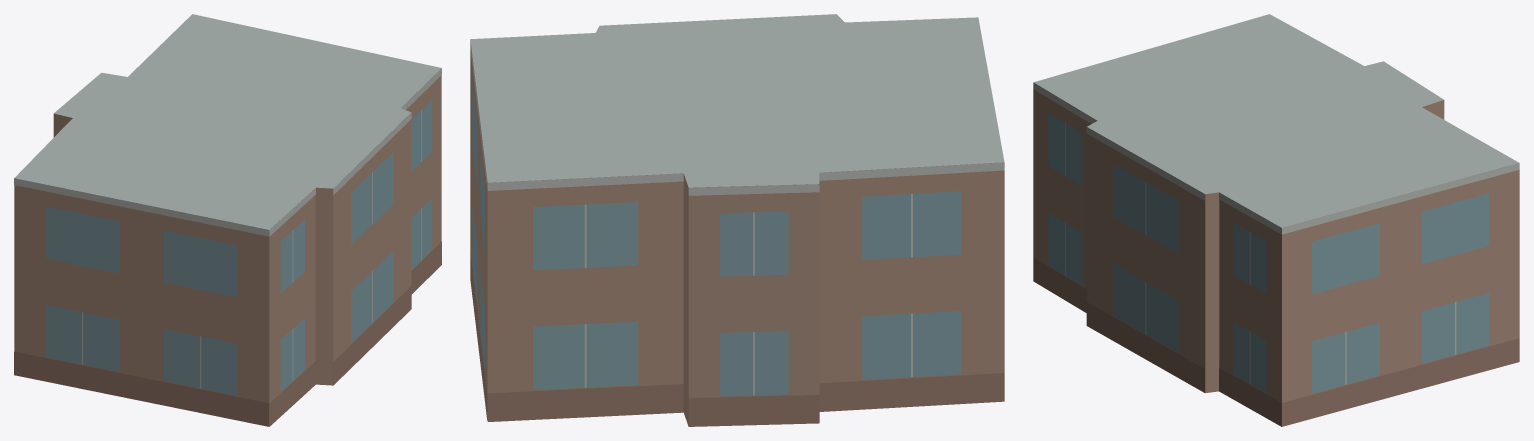
The model's file is survey-upis-32922652.glb.
3 views of the same model, side by side, from view 1: azimuth 30°, elevation 25°; view 2: azimuth 150°, elevation 25°; view 3: azimuth 270°, elevation 25° (orthographic). The views are drawn at different scales.
Visible parts, largest first — view 1: survey-upis-32922652.tmp; view 2: survey-upis-32922652.tmp; view 3: survey-upis-32922652.tmp.
Boxes of the visible parts, left/top/right/bottom form: survey-upis-32922652.tmp: left=14, top=14, right=441, bottom=426; survey-upis-32922652.tmp: left=470, top=14, right=1004, bottom=426; survey-upis-32922652.tmp: left=1033, top=14, right=1519, bottom=426.
Bounding box in the file's own units: 16.37 × 7.1 × 15.72.
